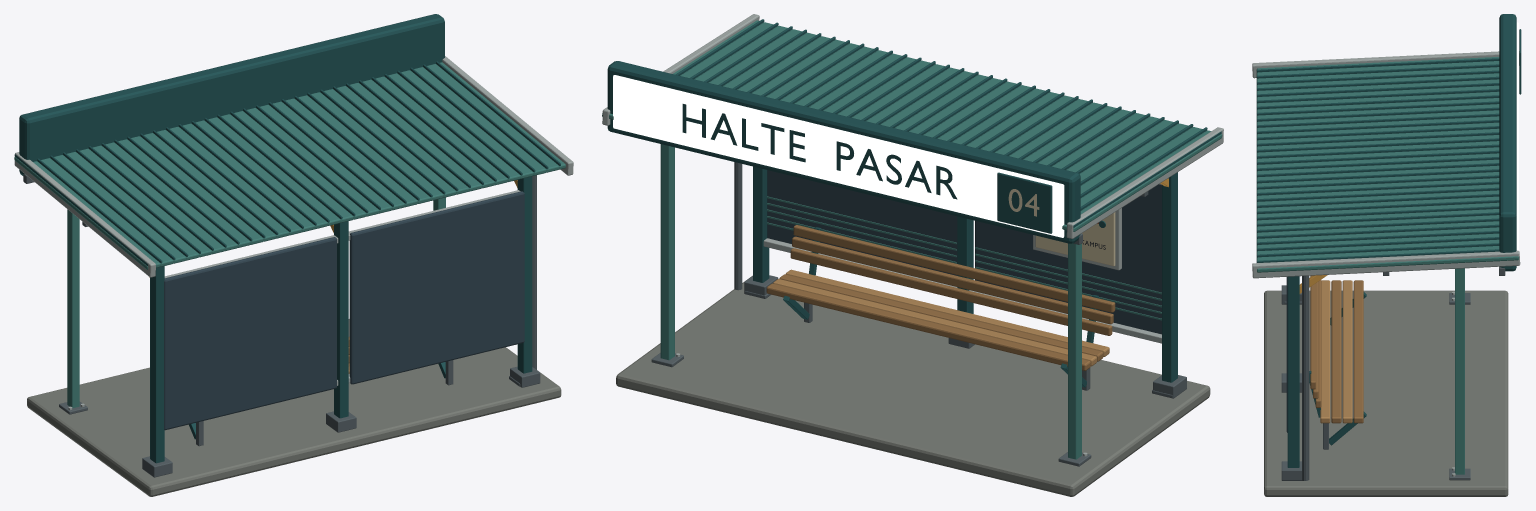
The model's file is HaltePasar.fbx.
The picture shows the model from 3 angles, left to right: view 1: azimuth 30°, elevation 25°; view 2: azimuth 150°, elevation 25°; view 3: azimuth 270°, elevation 25°; orthographic projection. The views are drawn at different scales.
Parts seen in each view (by area): view 1: HaltePasar; view 2: HaltePasar; view 3: HaltePasar.
Boxes of the visible parts, <box> form: HaltePasar: <box>14,14,573,496</box>; HaltePasar: <box>602,14,1223,496</box>; HaltePasar: <box>1252,14,1521,496</box>.
Bounding box in the file's own units: 562 × 368 × 314.
